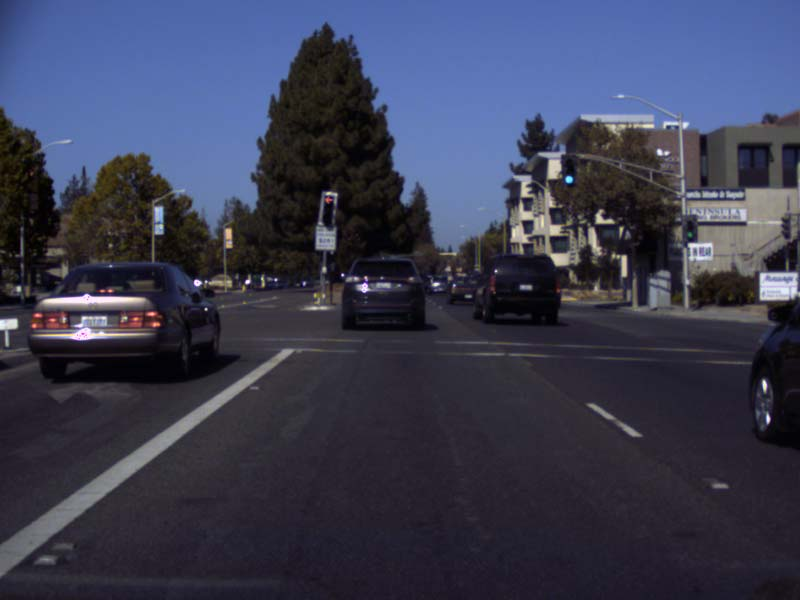Green: (562, 158, 573, 184), (686, 221, 692, 239)
Red: (321, 195, 334, 222)
